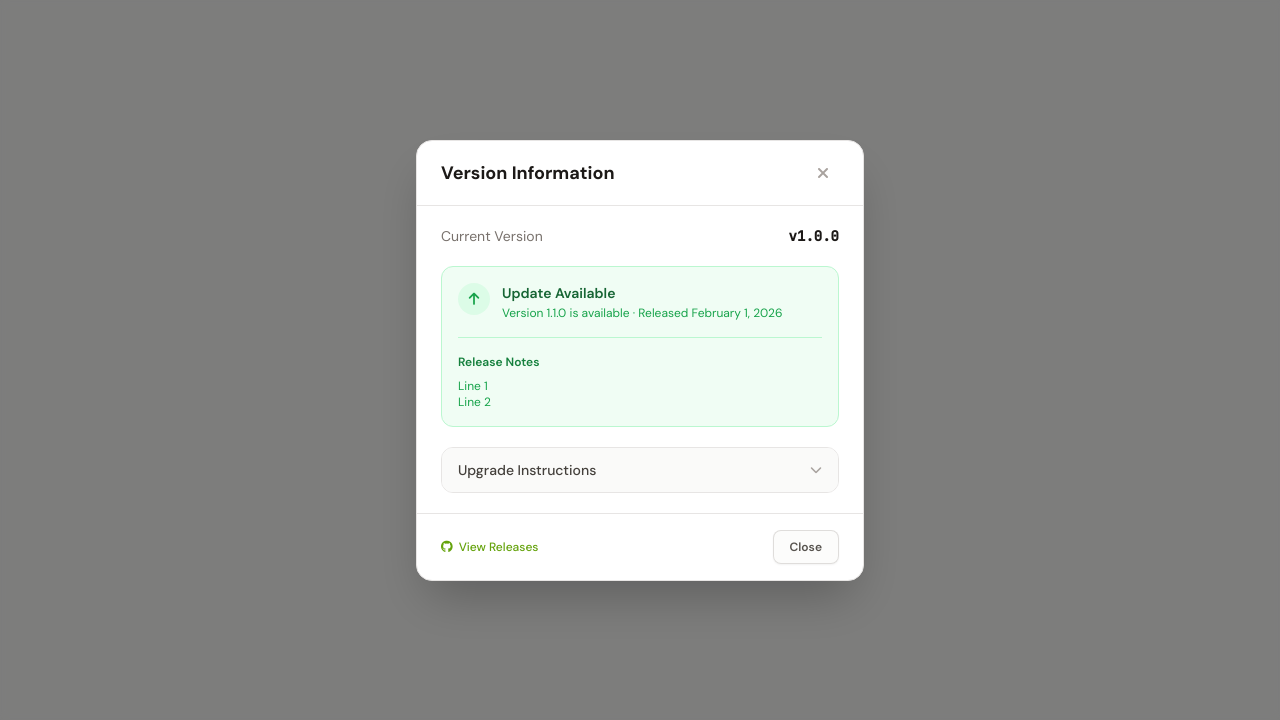
Scenario: VersionModal › renders update available state and toggles instructions
Expected: the heading "Update Available" is shown, [502,284,615,302]
Expected: the text "Version 1.1.0 is available · Released February 1, 2026" is shown, [502,304,822,320]
Click the button "Upgrade Instructions". click: click(527, 470)
box: [442,448,838,492]
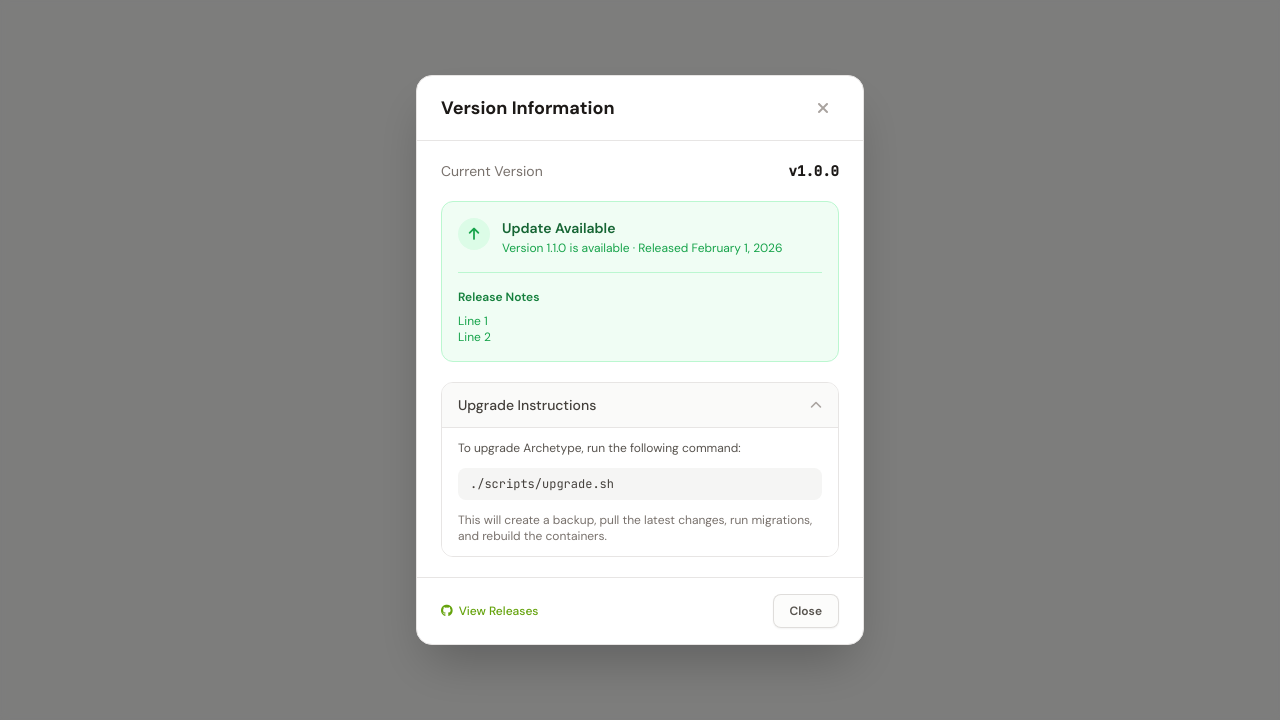
Result: the text "./scripts/upgrade.sh" is shown at [458,468,822,500]
